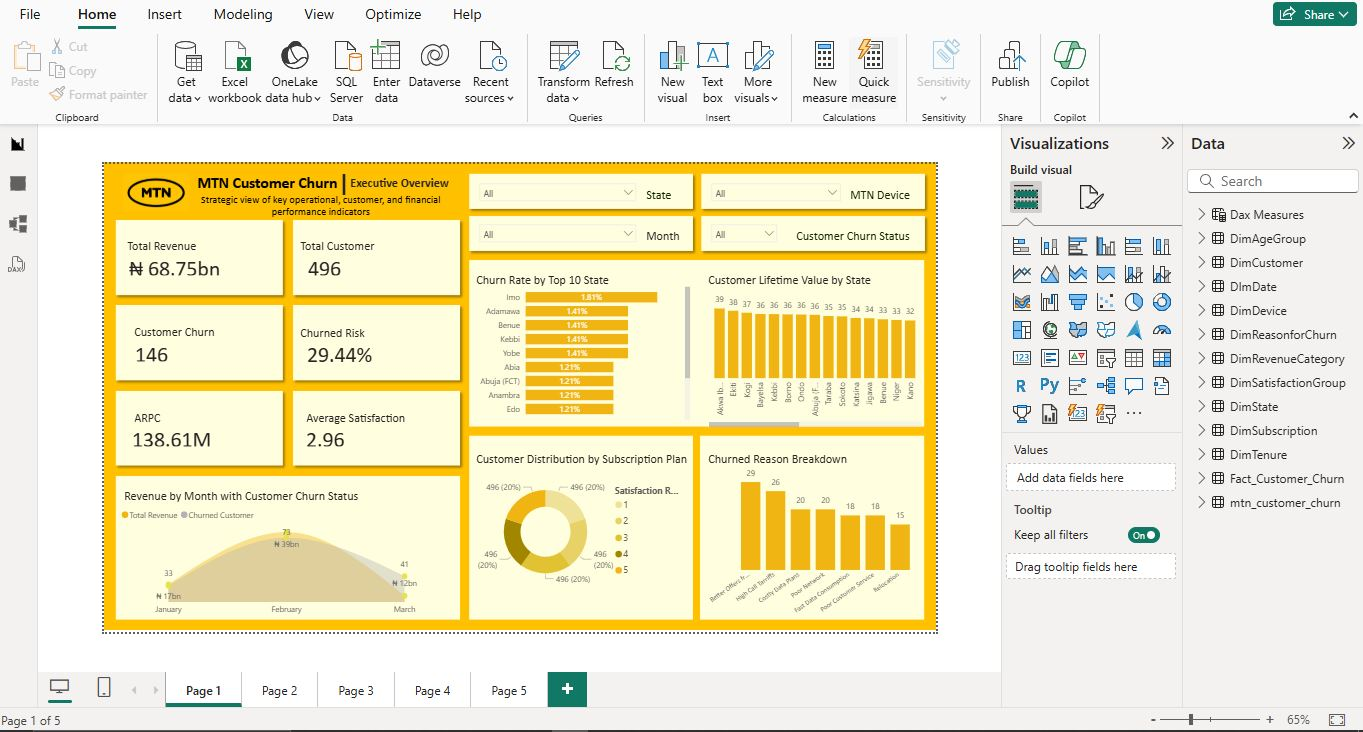

Layout of this report page (visuals, bound fields, positions):
{"tool":"powerbi","page":{"name":"Page 1","canvas":[1280,720],"ordinal":0},"visuals":[{"type":"slicer","fields":{"Values":["DimState.State"]},"box":[568.4,20.3,261.4,47.1],"z":0},{"type":"textbox","box":[829.8,30.3,215.7,52.9],"z":1000},{"type":"slicer","fields":{"Values":["DimDevice.MTN Device"]},"box":[924.1,20.3,218.6,47.1],"z":2000},{"type":"slicer","fields":{"Values":["DImDate.Month Name"]},"box":[568.4,83.2,261.4,47.1],"z":3000},{"type":"slicer","fields":{"Values":["Fact_Customer_Churn.Customer Churn Status"]},"box":[924.1,83.2,121.4,47.1],"z":4000},{"type":"textbox","box":[1059.8,93.2,192.9,42.9],"z":5000},{"type":"textbox","box":[829.8,93.2,108.6,42.9],"z":6000},{"type":"textbox","box":[1142.6,30.3,110,52.9],"z":7000},{"type":"lineChart","fields":{"Category":["DImDate.Month Name"],"Y":["Dax Measures.Total Revenue"],"Y2":["Dax Measures.Churned Customer"]},"box":[21.2,520.3,518.6,182.9],"z":8000},{"type":"cardVisual","fields":{"Data":["Dax Measures.Total Revenue"]},"box":[21.2,114.6,177.1,61.4],"z":9000},{"type":"textbox","box":[31.2,108.9,215.7,52.9],"z":10000},{"type":"cardVisual","fields":{"Data":["Dax Measures.Total Customer"]},"box":[296.9,114.6,177.1,61.4],"z":11000},{"type":"textbox","box":[296.9,108.9,215.7,52.9],"z":12000},{"type":"cardVisual","fields":{"Data":["Dax Measures.Churned Customer"]},"box":[31.2,247.9,177.1,61.4],"z":13000},{"type":"textbox","box":[41.2,242.2,215.7,52.9],"z":14000},{"type":"cardVisual","fields":{"Data":["Dax Measures.Churn Rate"]},"box":[295.5,248.4,176.8,62.3],"z":15000},{"type":"textbox","box":[296.9,242.6,215.9,52.2],"z":16000},{"type":"cardVisual","fields":{"Data":["Dax Measures.Average Revenue per Customer"]},"box":[25.5,378.9,177.1,61.4],"z":17000},{"type":"textbox","box":[41.2,373.7,215.7,52.9],"z":18000},{"type":"cardVisual","fields":{"Data":["Dax Measures.Average Satisfaction"]},"box":[294.1,378.9,177.1,61.4],"z":19000},{"type":"textbox","box":[306.9,373.7,215.7,52.9],"z":20000},{"type":"donutChart","fields":{"Category":["Fact_Customer_Churn.Satisfaction Rate"],"Y":["Dax Measures.Total Customer"]},"box":[568.4,440.3,327.1,251.4],"z":21000},{"type":"clusteredBarChart","fields":{"Category":["DimState.State"],"Y":["Dax Measures.Churn Rate"]},"box":[568.4,176,338.6,224.3],"z":22000},{"type":"columnChart","fields":{"Category":["DimReasonforChurn.Reasons for Churn"],"Y":["Dax Measures.Churned Customer"]},"box":[924.6,453.6,336.2,250.7],"z":23000},{"type":"textbox","box":[25.5,493.2,388.6,52.9],"z":24000},{"type":"textbox","box":[568.1,437.7,349.3,52.2],"z":25000},{"type":"textbox","box":[924.1,437.5,245.7,52.9],"z":26000},{"type":"textbox","box":[568.1,160.9,240.6,52.2],"z":27000},{"type":"columnChart","fields":{"Category":["DimState.State"],"Y":["Dax Measures.Customer Lifetime Value"]},"box":[924.5,187.5,337.7,221.7],"z":28000},{"type":"textbox","box":[924.5,161.4,349.3,53.6],"z":29000},{"type":"image","box":[0,8.7,159.4,68.1],"z":30000},{"type":"textbox","box":[139.1,8.7,246.4,44.9],"z":31000},{"type":"textbox","box":[373.9,13,172.5,44.9],"z":32000},{"type":"textbox","box":[129,40.6,408.7,60.9],"z":33000},{"type":"textbox","box":[355.1,0,39.1,84.1],"z":34000}]}

Visuals, with their boxes on the page's 1280x720 design canvas (x1, y1, x2, y2). These are canvas units, not pixel positions in the 1363x732 screenshot, which may show the page scaled, cropped or inside an application window:
slicer - DimState.State: <box>568,20,830,67</box>
textbox: <box>830,30,1046,83</box>
slicer - DimDevice.MTN Device: <box>924,20,1143,67</box>
slicer - DImDate.Month Name: <box>568,83,830,130</box>
slicer - Fact_Customer_Churn.Customer Churn Status: <box>924,83,1046,130</box>
textbox: <box>1060,93,1253,136</box>
textbox: <box>830,93,938,136</box>
textbox: <box>1143,30,1253,83</box>
lineChart - DImDate.Month Name x Dax Measures.Total Revenue: <box>21,520,540,703</box>
cardVisual - Dax Measures.Total Revenue: <box>21,115,198,176</box>
textbox: <box>31,109,247,162</box>
cardVisual - Dax Measures.Total Customer: <box>297,115,474,176</box>
textbox: <box>297,109,513,162</box>
cardVisual - Dax Measures.Churned Customer: <box>31,248,208,309</box>
textbox: <box>41,242,257,295</box>
cardVisual - Dax Measures.Churn Rate: <box>296,248,472,311</box>
textbox: <box>297,243,513,295</box>
cardVisual - Dax Measures.Average Revenue per Customer: <box>26,379,203,440</box>
textbox: <box>41,374,257,427</box>
cardVisual - Dax Measures.Average Satisfaction: <box>294,379,471,440</box>
textbox: <box>307,374,523,427</box>
donutChart - Fact_Customer_Churn.Satisfaction Rate x Dax Measures.Total Customer: <box>568,440,896,692</box>
clusteredBarChart - DimState.State x Dax Measures.Churn Rate: <box>568,176,907,400</box>
columnChart - DimReasonforChurn.Reasons for Churn x Dax Measures.Churned Customer: <box>925,454,1261,704</box>
textbox: <box>26,493,414,546</box>
textbox: <box>568,438,917,490</box>
textbox: <box>924,438,1170,490</box>
textbox: <box>568,161,809,213</box>
columnChart - DimState.State x Dax Measures.Customer Lifetime Value: <box>924,188,1262,409</box>
textbox: <box>924,161,1274,215</box>
image: <box>0,9,159,77</box>
textbox: <box>139,9,386,54</box>
textbox: <box>374,13,546,58</box>
textbox: <box>129,41,538,102</box>
textbox: <box>355,0,394,84</box>
